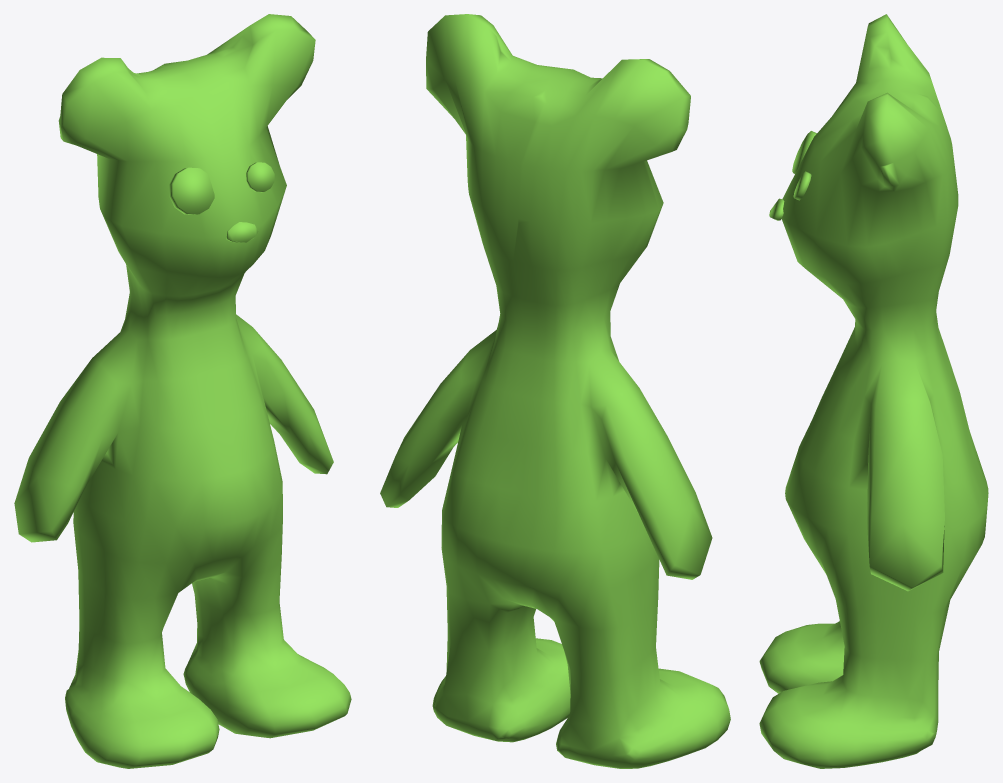
The model's file is oso_roto_LP.FBX.
3 views of the same model, side by side, from view 1: azimuth 30°, elevation 25°; view 2: azimuth 150°, elevation 25°; view 3: azimuth 270°, elevation 25° (orthographic). The views are drawn at different scales.
Visible parts, largest first — view 1: oso_roto_obj; view 2: oso_roto_obj; view 3: oso_roto_obj.
Boxes of the visible parts, x1=… form: oso_roto_obj: x1=14, y1=14, x2=351, y2=768; oso_roto_obj: x1=380, y1=14, x2=730, y2=768; oso_roto_obj: x1=759, y1=14, x2=988, y2=768.
Size of the model in its own units: 43.94 by 93.76 by 29.41.
